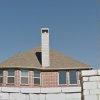Chimney: (34, 18, 55, 78)
